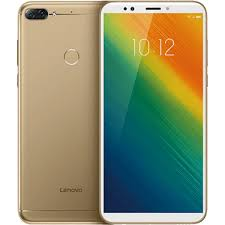lenovo: (97, 1, 210, 225), (16, 1, 102, 225)
